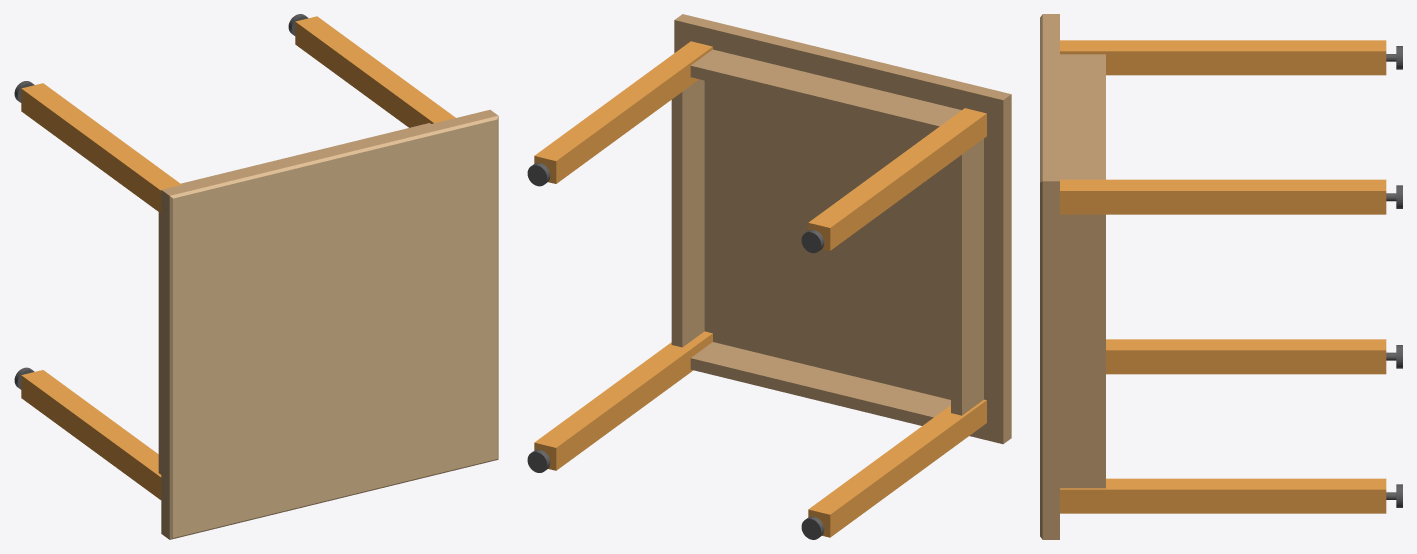
The model's file is work_table_600.glb.
The picture shows the model from 3 angles, left to right: view 1: azimuth 30°, elevation 25°; view 2: azimuth 150°, elevation 25°; view 3: azimuth 270°, elevation 25°; orthographic projection. The views are drawn at different scales.
Visible parts, largest first — view 1: wood_top_face, orange_powder_coat, wood_top_edge, foot_dark; view 2: wood_top_edge, orange_powder_coat, foot_dark; view 3: orange_powder_coat, wood_top_edge, wood_top_face, foot_dark.
Part boxes in pixels (x1=…): wood_top_face: x1=169, y1=115, x2=498, y2=539; orange_powder_coat: x1=21, y1=16, x2=455, y2=499; wood_top_edge: x1=158, y1=109, x2=497, y2=539; foot_dark: x1=14, y1=14, x2=308, y2=389; wood_top_edge: x1=671, y1=14, x2=1011, y2=444; orange_powder_coat: x1=534, y1=41, x2=986, y2=537; foot_dark: x1=527, y1=163, x2=824, y2=539; orange_powder_coat: x1=1060, y1=40, x2=1386, y2=513; wood_top_edge: x1=1042, y1=14, x2=1105, y2=539; wood_top_face: x1=1040, y1=14, x2=1042, y2=539; foot_dark: x1=1386, y1=46, x2=1402, y2=507.
Bounding box in the file's own units: 0.6 × 0.6 × 0.55.
